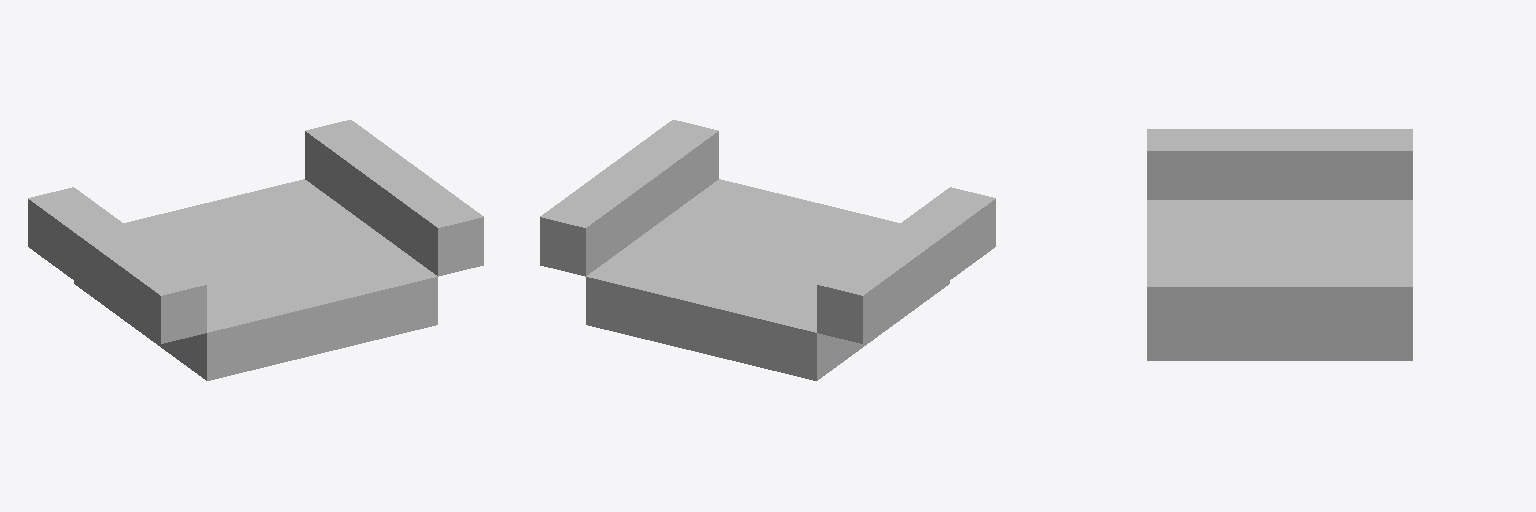
The model's file is Road1White.obj.
The picture shows the model from 3 angles: view 1: azimuth 30°, elevation 25°; view 2: azimuth 150°, elevation 25°; view 3: azimuth 270°, elevation 25°; orthographic projection.
Parts seen in each view (by area): view 1: ROAD1, BARRIER-1, BARRER-2; view 2: ROAD1, BARRIER-1, BARRER-2; view 3: ROAD1, BARRER-2, BARRIER-1.
Part boxes in pixels (bbox=[...]): ROAD1: bbox=[74, 179, 437, 380]; BARRIER-1: bbox=[28, 187, 206, 343]; BARRER-2: bbox=[305, 120, 483, 276]; ROAD1: bbox=[586, 179, 949, 380]; BARRIER-1: bbox=[817, 187, 995, 343]; BARRER-2: bbox=[540, 120, 718, 276]; ROAD1: bbox=[1147, 200, 1412, 360]; BARRER-2: bbox=[1147, 264, 1412, 334]; BARRIER-1: bbox=[1147, 129, 1412, 199].
Bounding box in the file's own units: 7 × 2 × 5.